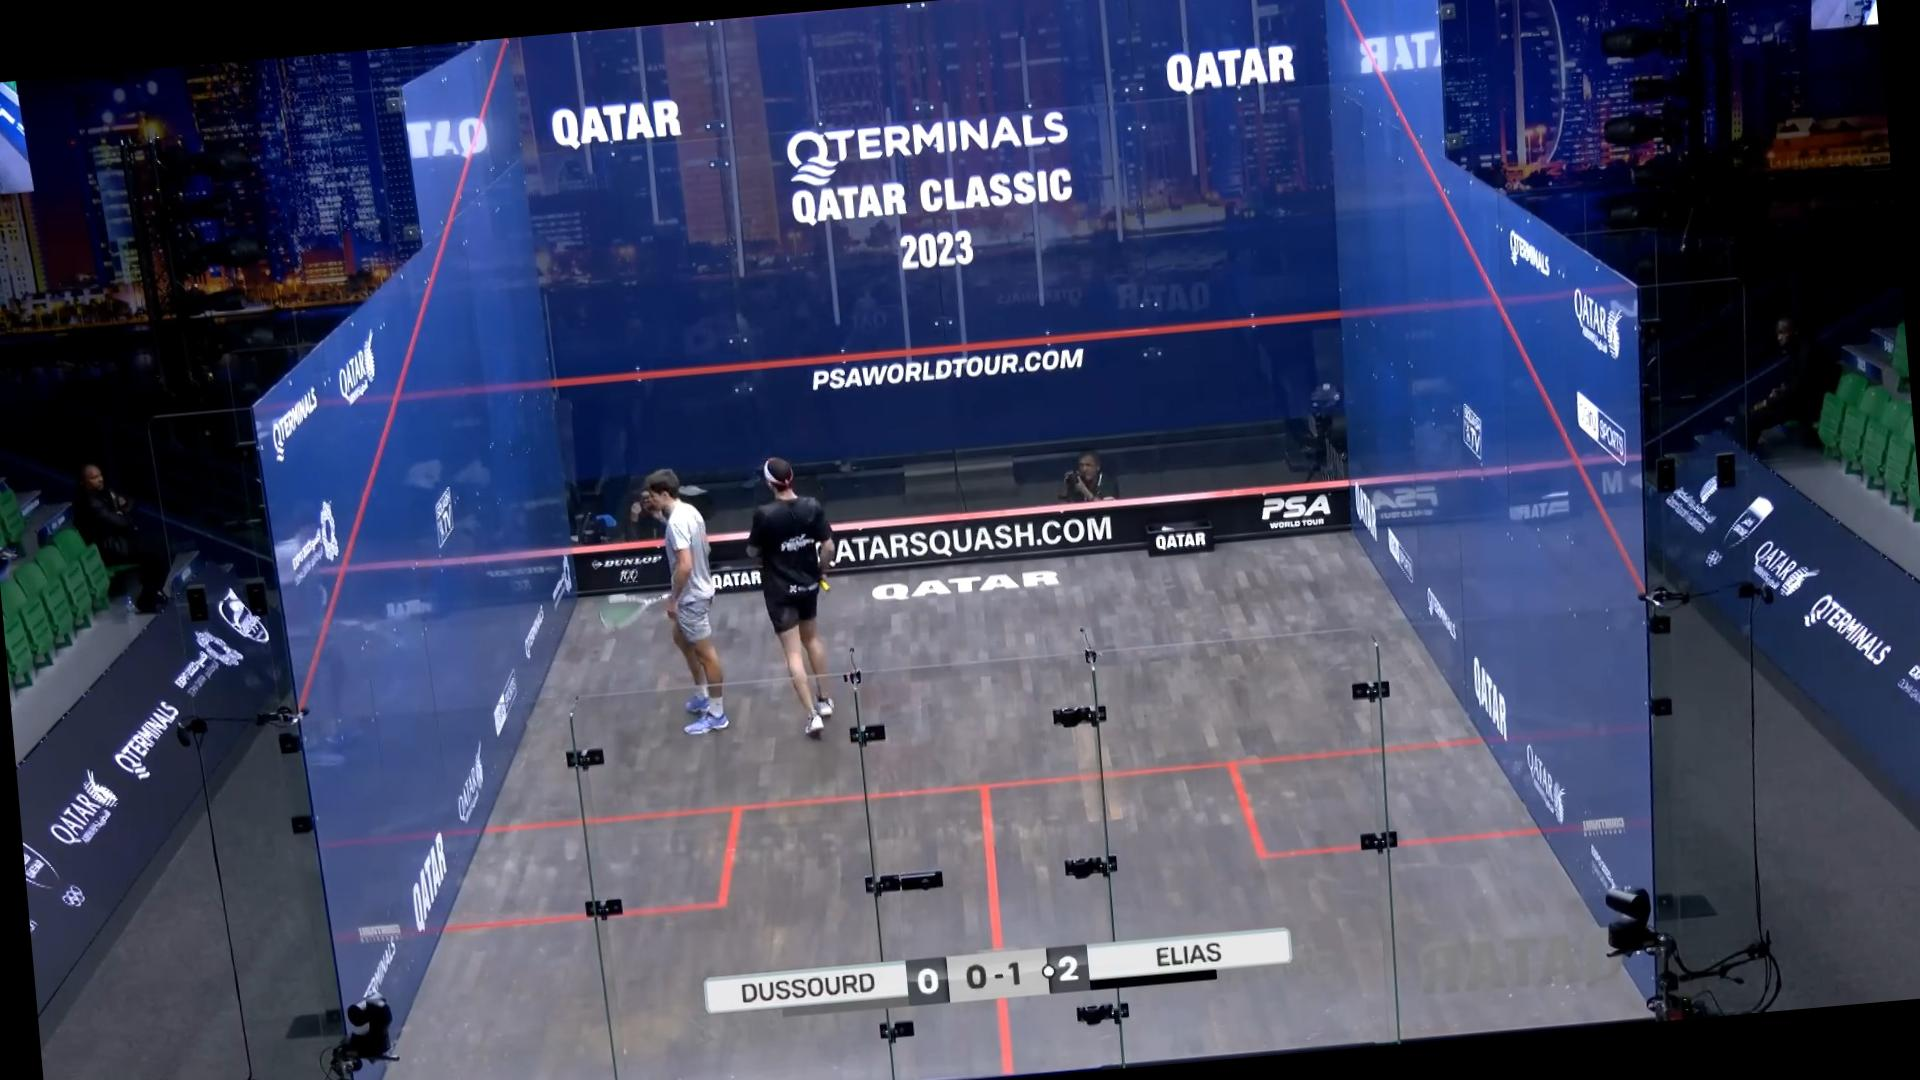Racket: (591, 584, 673, 634)
